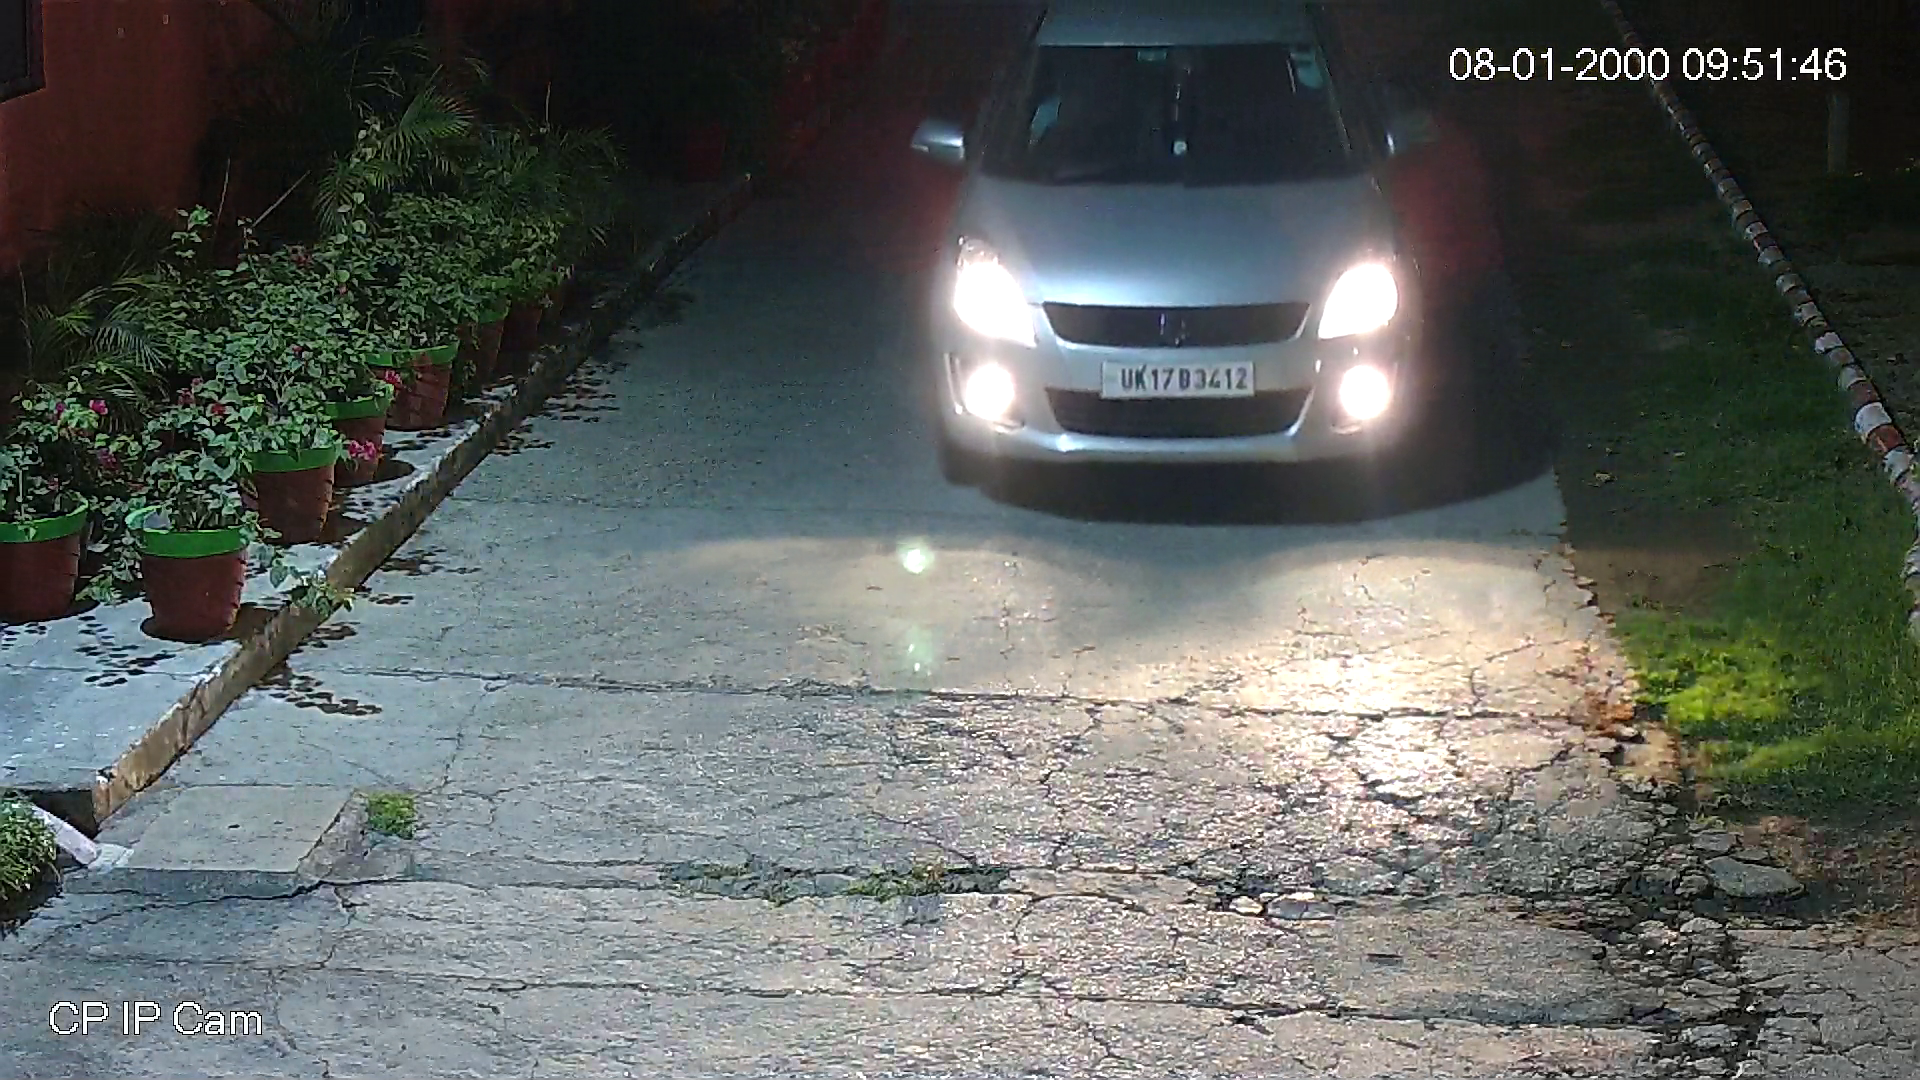plate: (1099, 346, 1256, 410)
